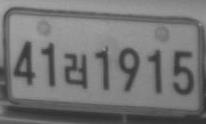1: (145, 49, 169, 94), (38, 42, 61, 87), (92, 49, 113, 91)
4: (12, 40, 36, 86)
5: (172, 50, 195, 96)
9: (117, 46, 141, 92)
러: (62, 52, 88, 90)
